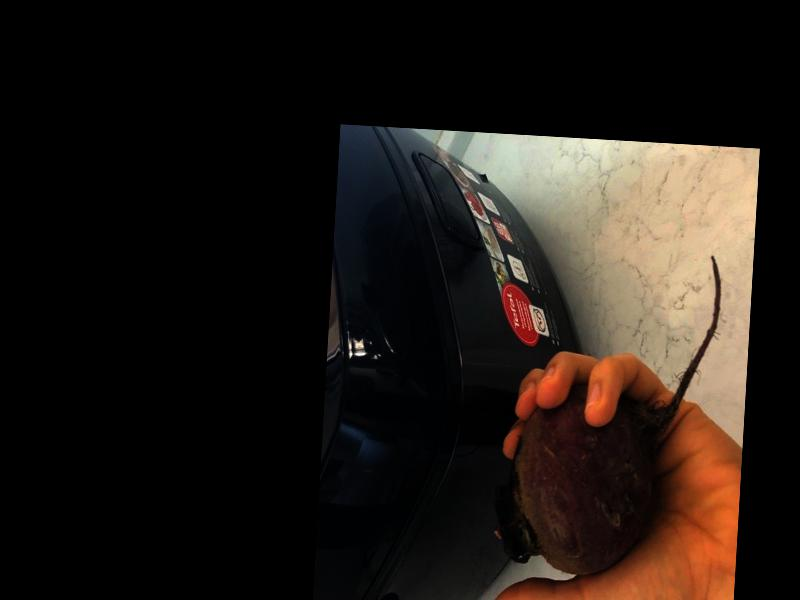Beet: (491, 243, 723, 581)
